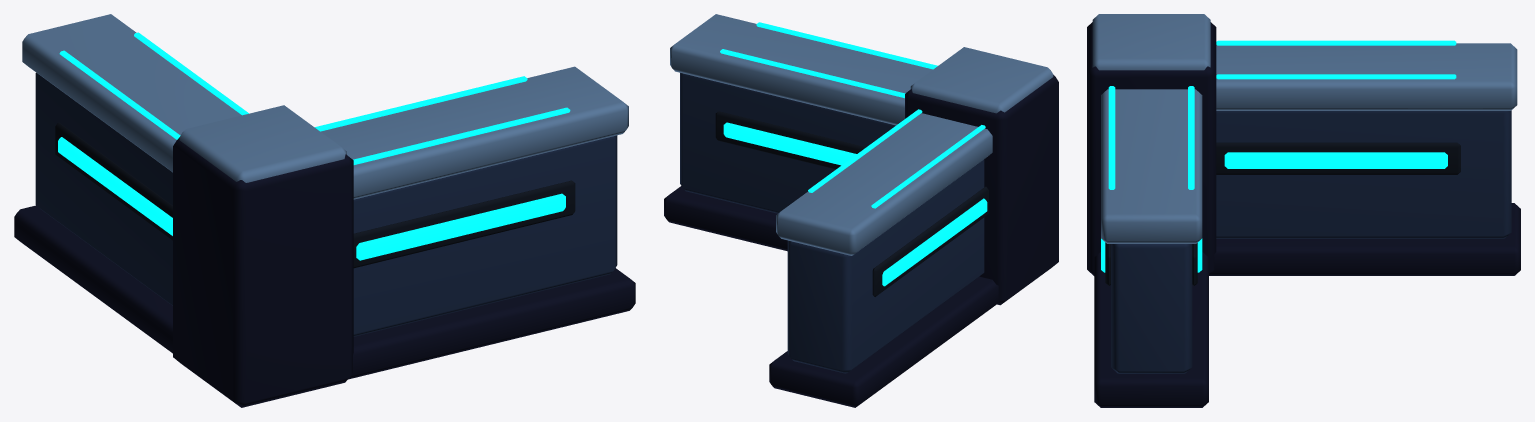
The model's file is NT_Wall_Corner_Inner_Cyan.fbx.
The picture shows the model from 3 angles, left to right: view 1: azimuth 30°, elevation 25°; view 2: azimuth 150°, elevation 25°; view 3: azimuth 270°, elevation 25°; orthographic projection. The views are drawn at different scales.
Visible parts, largest first — view 1: NT_Wall_Corner_Inner_Cyan__WallMesh; view 2: NT_Wall_Corner_Inner_Cyan__WallMesh; view 3: NT_Wall_Corner_Inner_Cyan__WallMesh.
Boxes of the visible parts, box(x1,y1,x2,y2) form: NT_Wall_Corner_Inner_Cyan__WallMesh: box(14, 14, 635, 407); NT_Wall_Corner_Inner_Cyan__WallMesh: box(664, 14, 1058, 407); NT_Wall_Corner_Inner_Cyan__WallMesh: box(1087, 14, 1520, 407).
Bounding box in the file's own units: 2.35 × 1.31 × 2.35.
